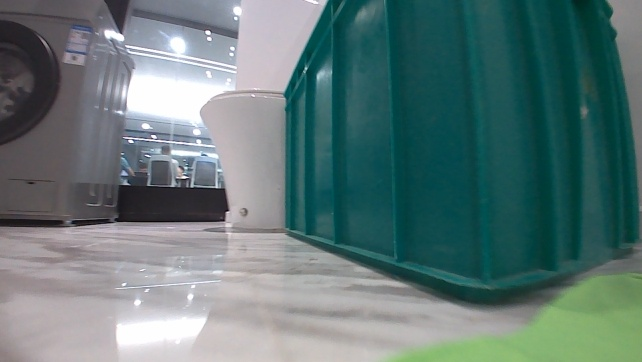toilet: (192, 85, 289, 234)
washing_machine: (0, 0, 139, 229)
